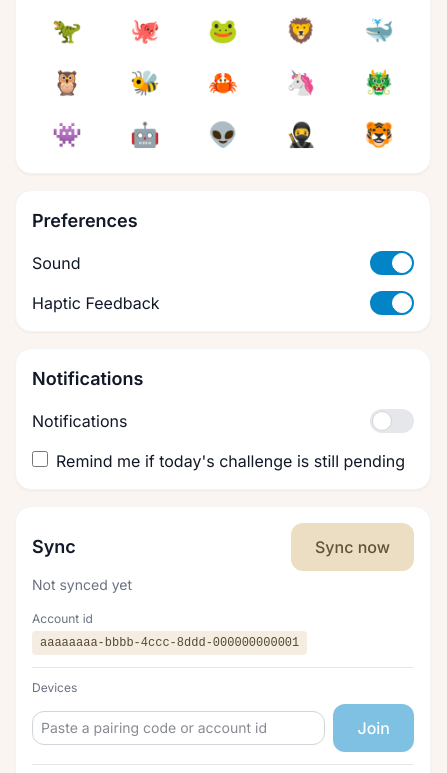
Test: Settings Page › reports blocked notifications when permission is denied (and never re-asks)
(page scrolled)
Click the 3rd checkbox at (392, 421), box [370,409,414,433]
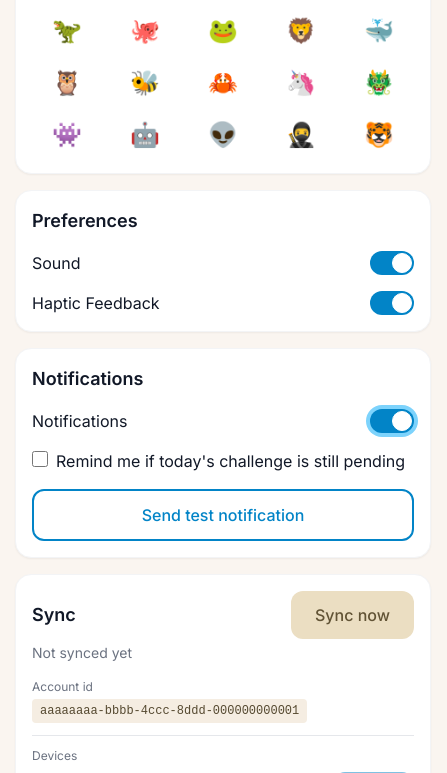
Click the button "Send test notification" at (223, 515), box [32,489,414,541]
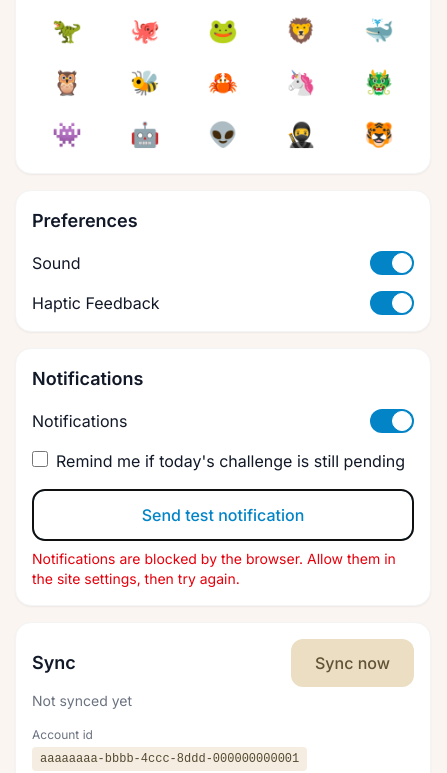
Expected: the text "blocked" is shown, [32,550,396,587]
